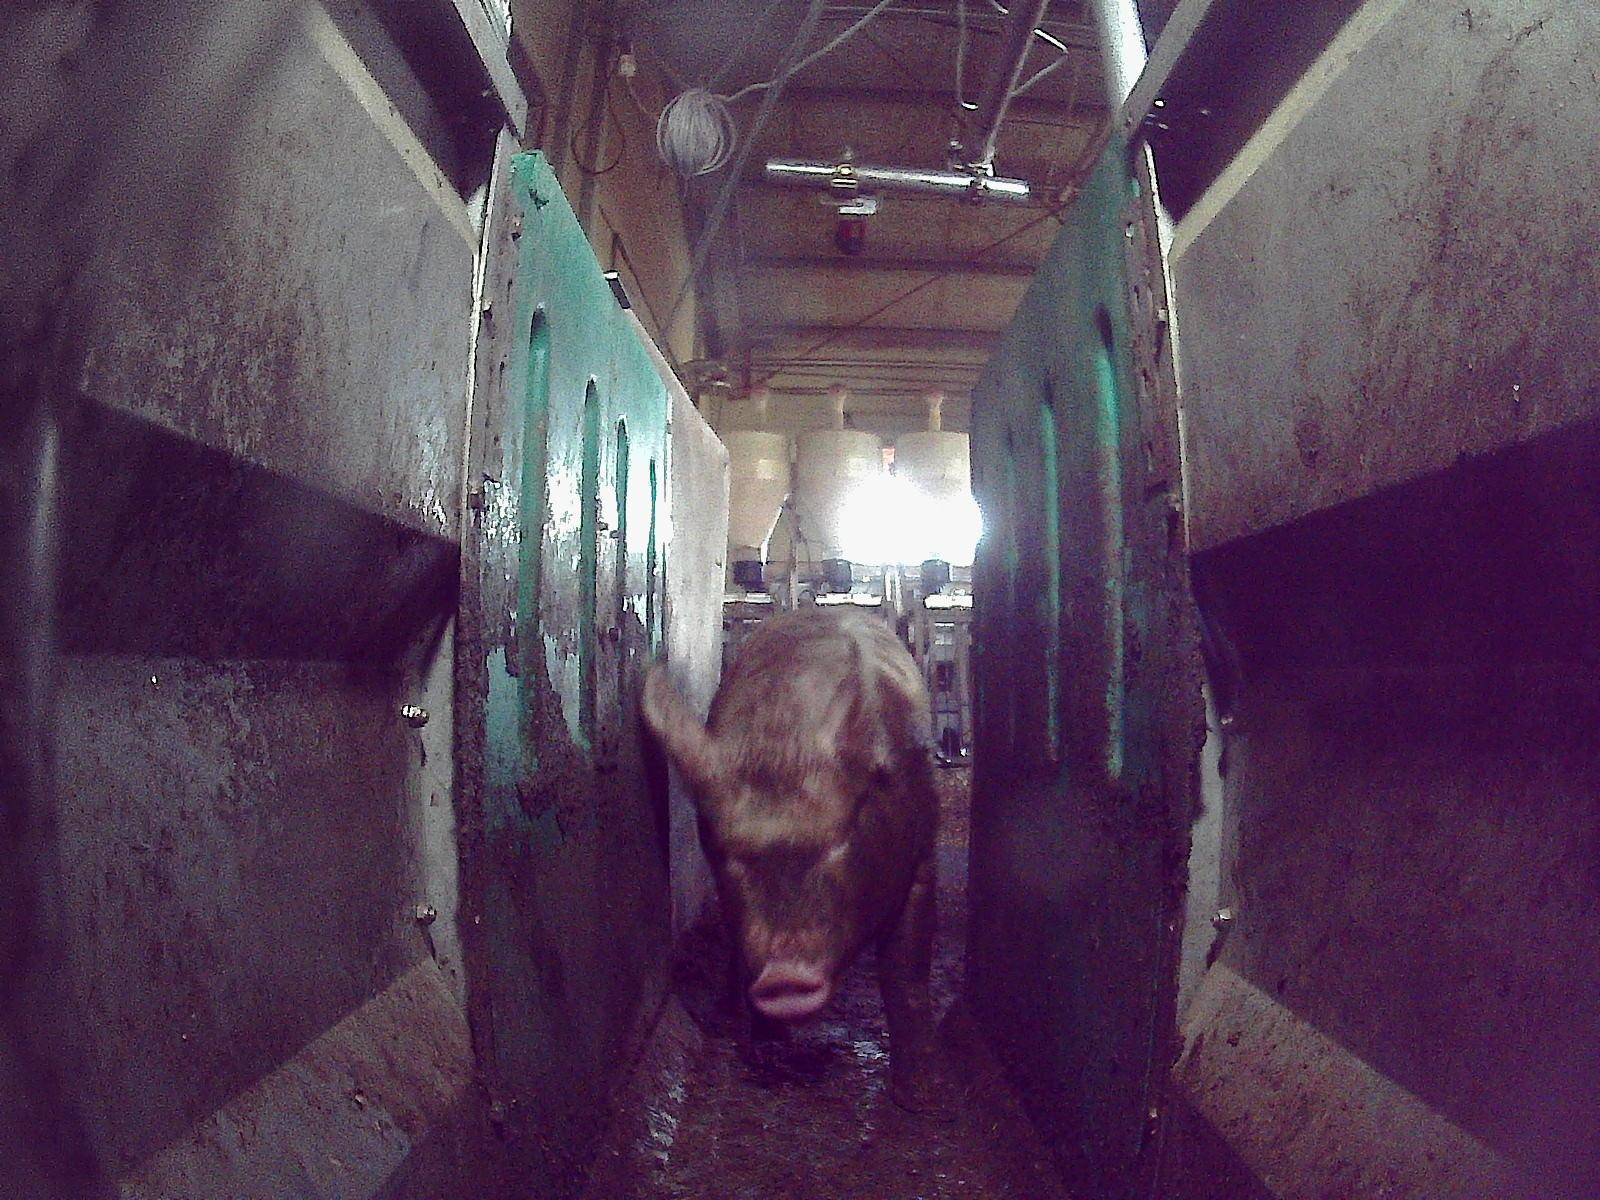Face: (695, 750, 865, 1012)
